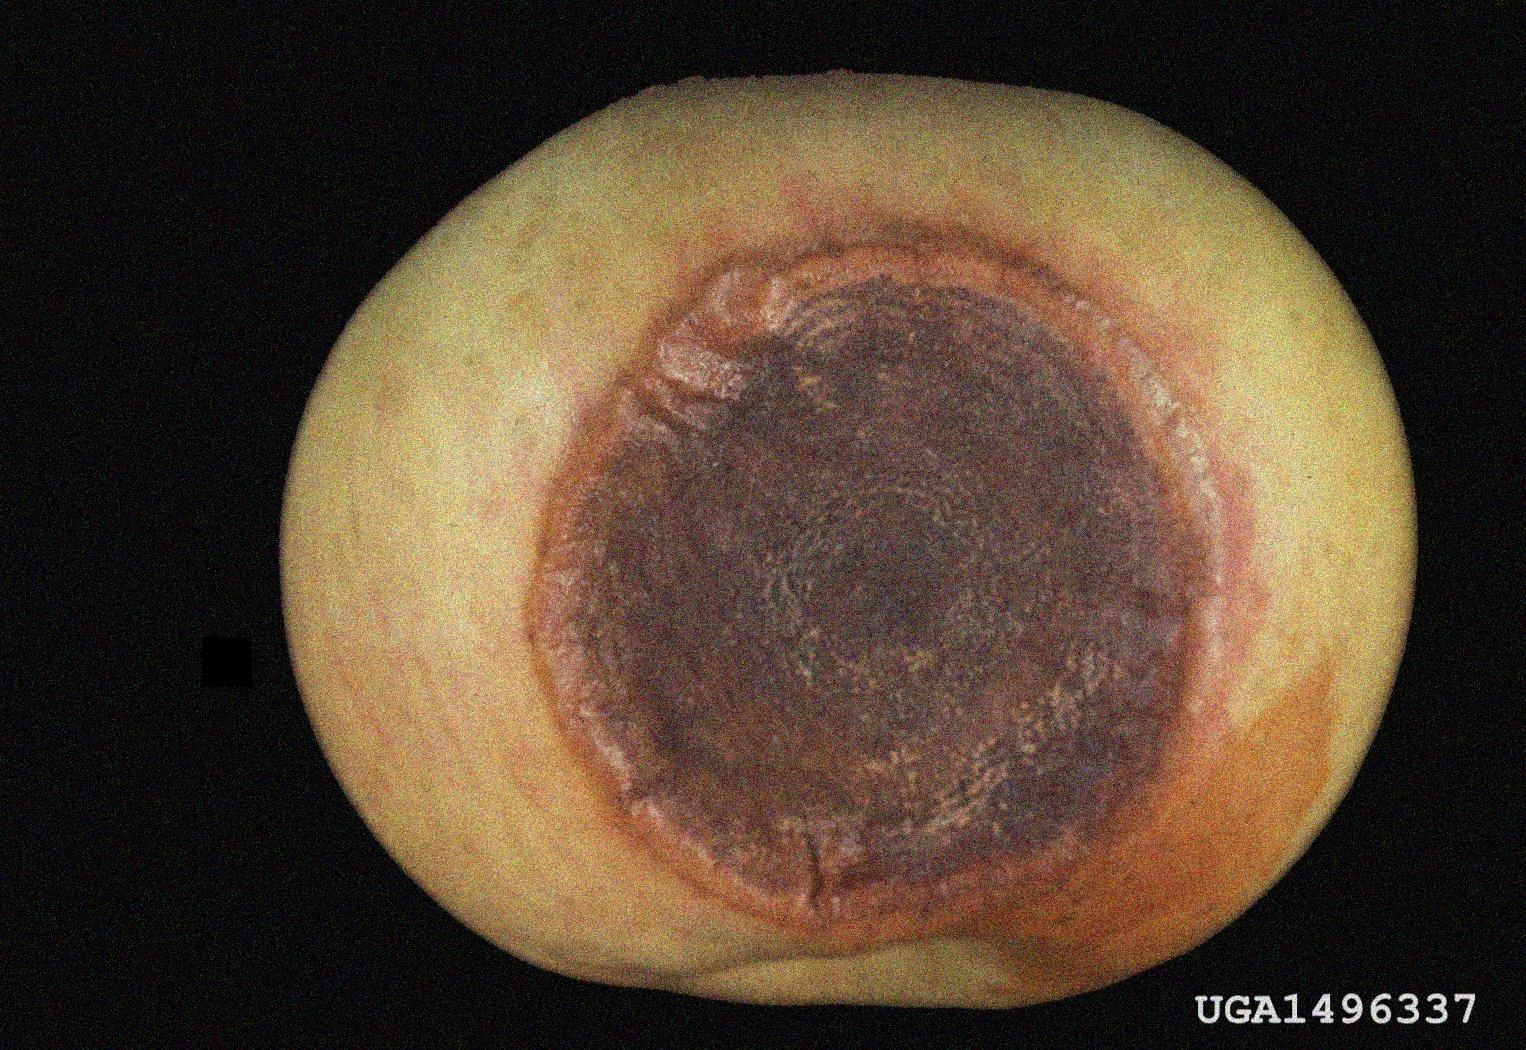rotten apple: (268, 72, 1420, 1013)
